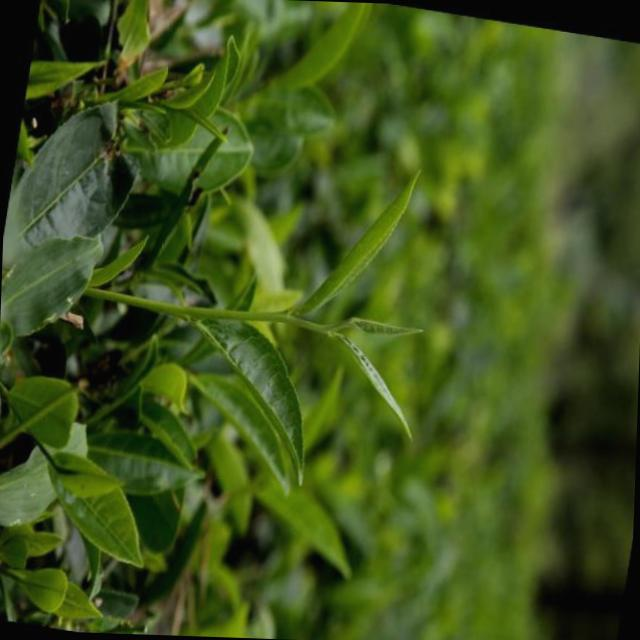Stem: (275, 311, 290, 320)
